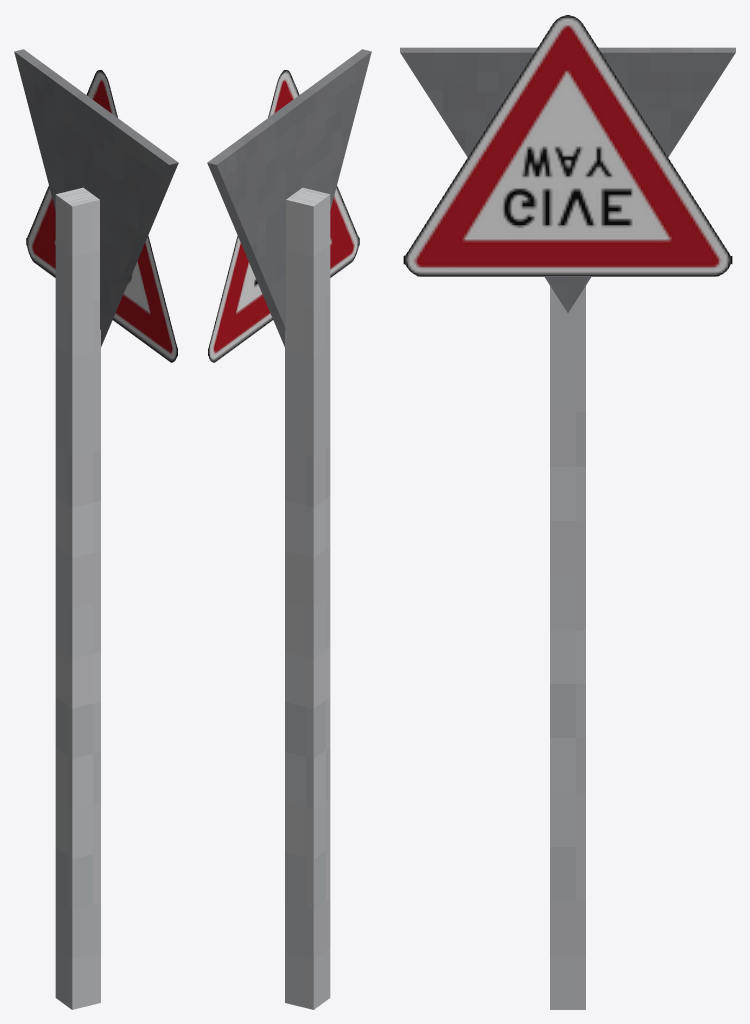
File: signyield.obj
The picture shows the model from 3 angles, left to right: view 1: azimuth 30°, elevation 25°; view 2: azimuth 150°, elevation 25°; view 3: azimuth 270°, elevation 25°; orthographic projection. The views are drawn at different scales.
Visible parts, largest first — view 1: cube, cylinder, plane; view 2: cube, cylinder, plane; view 3: plane, cube, cylinder.
Part boxes in pixels (x1,y1,x2,y2): cube: [55, 187, 100, 1009]; cylinder: [14, 49, 178, 346]; plane: [26, 70, 177, 362]; cube: [285, 187, 330, 1009]; cylinder: [207, 49, 371, 346]; plane: [208, 70, 359, 362]; plane: [403, 15, 732, 276]; cube: [550, 286, 585, 1009]; cylinder: [400, 47, 735, 312].
Size of the model in its own units: 0.125 by 2.88 by 0.875.
3 materials, 3 textured.
